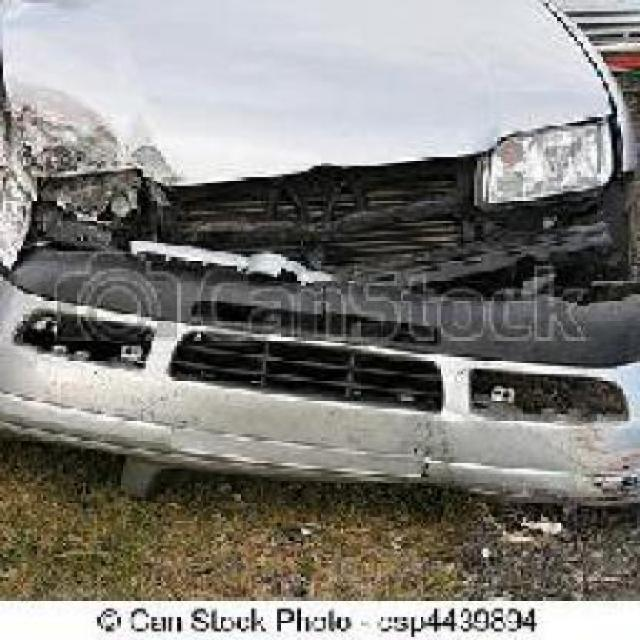damaged-front-bumper: (7, 237, 638, 454)
damaged-head-light: (31, 162, 152, 238)
